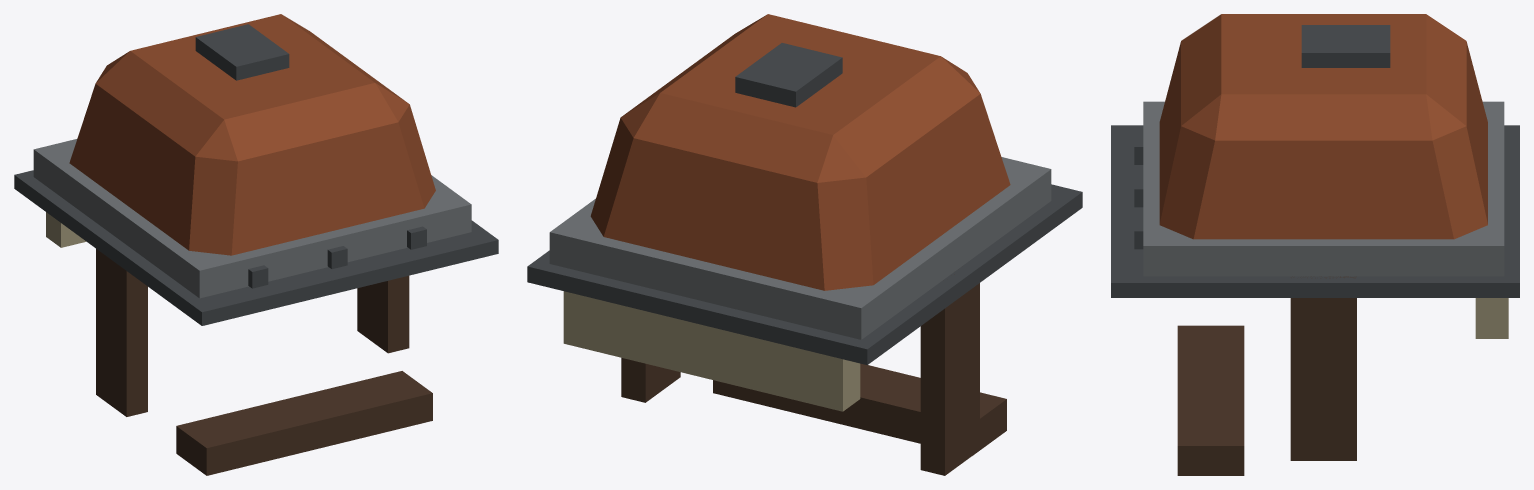
File: item_helmet_scrap.glb
The picture shows the model from 3 angles, left to right: view 1: azimuth 30°, elevation 25°; view 2: azimuth 150°, elevation 25°; view 3: azimuth 270°, elevation 25°; orthographic projection. The views are drawn at different scales.
Visible parts, largest first — view 1: helmet_scrap; view 2: helmet_scrap; view 3: helmet_scrap.
Boxes of the visible parts, x1=… form: helmet_scrap: x1=14, y1=14, x2=498, y2=475; helmet_scrap: x1=527, y1=14, x2=1082, y2=475; helmet_scrap: x1=1111, y1=14, x2=1519, y2=475.
Size of the model in its own units: 0.3362 by 0.375 by 0.3686.
